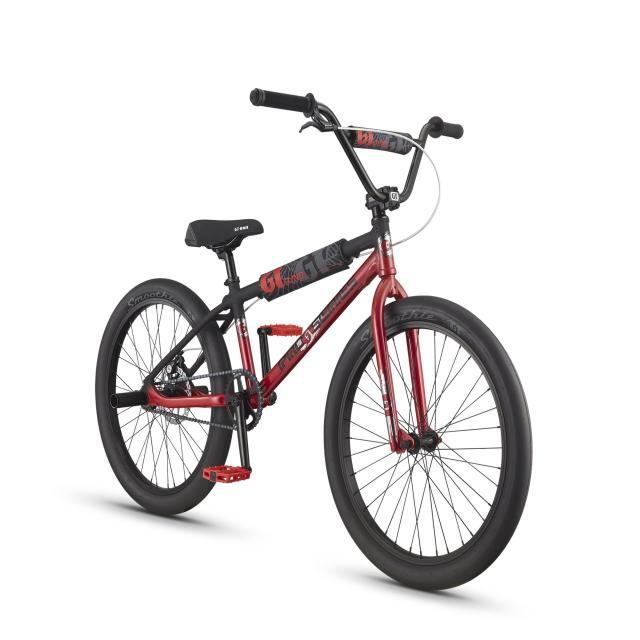bmx-bike: (90, 84, 537, 594)
